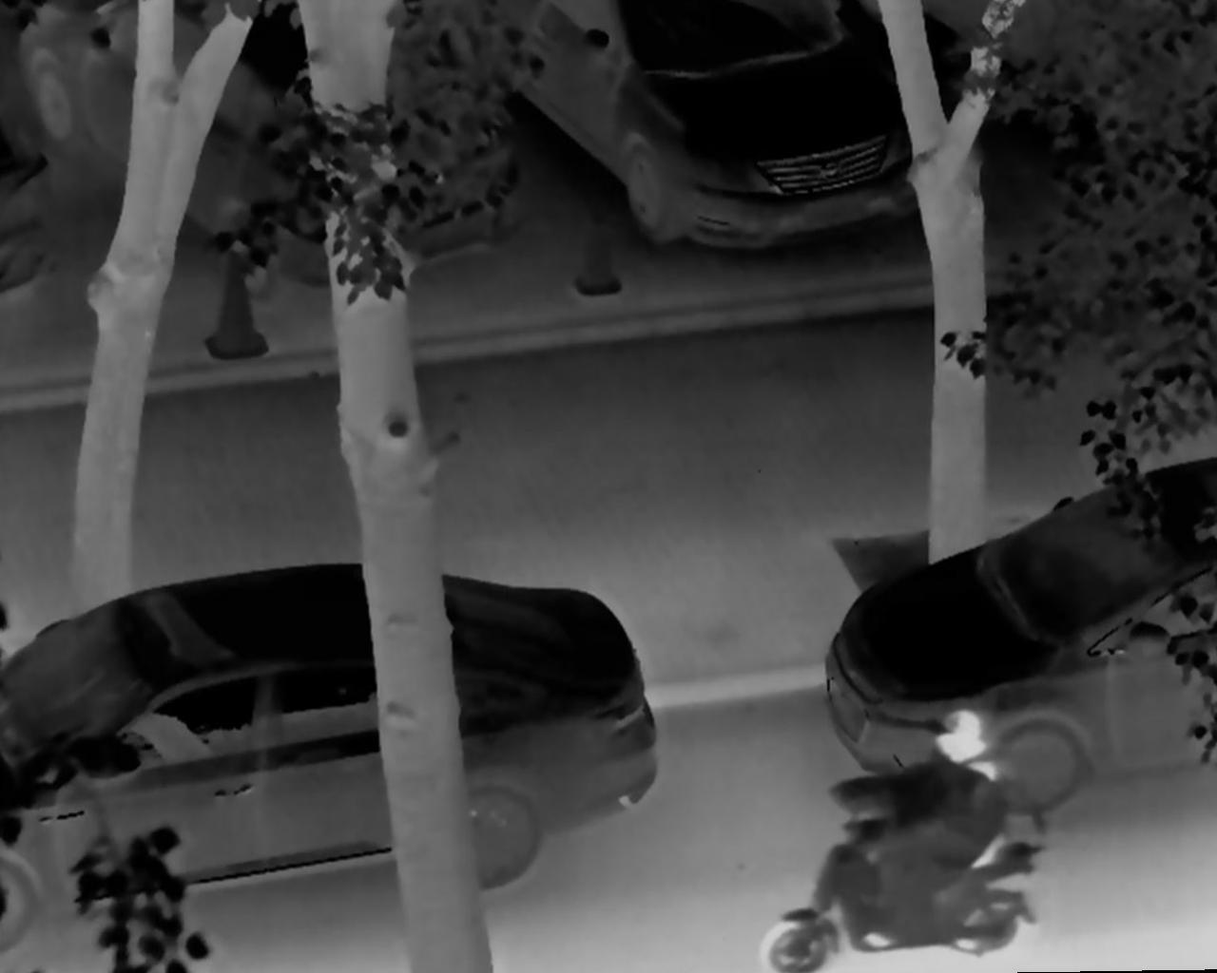person: (859, 695, 1019, 953)
